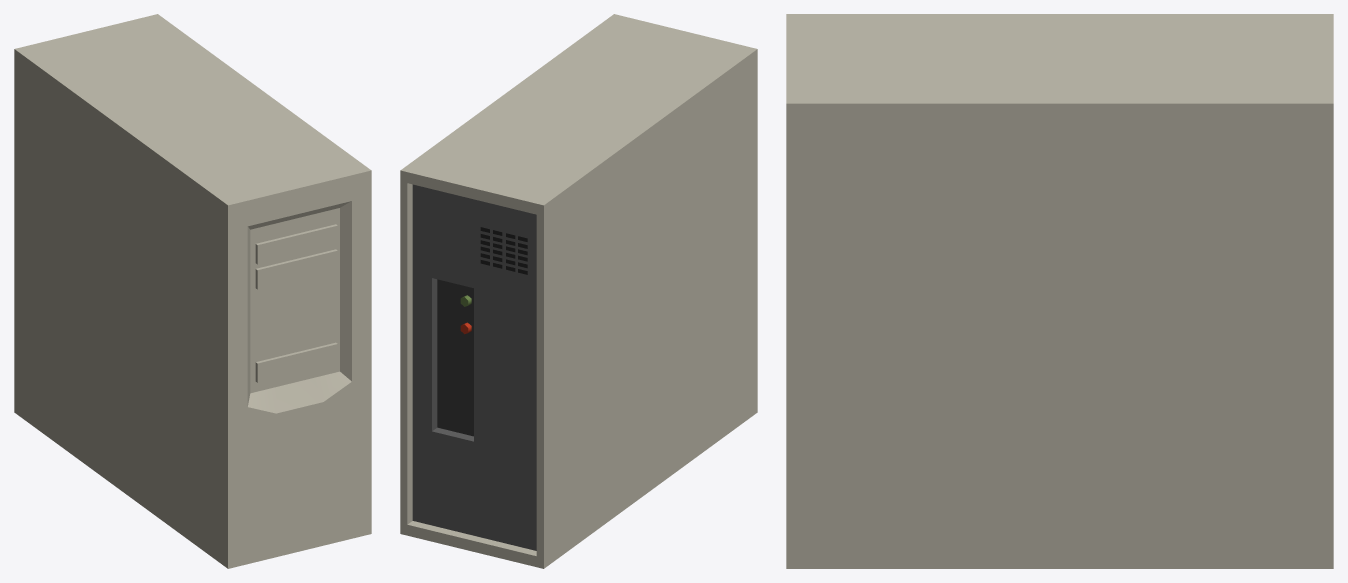
Rendered from ComputerCase_01.fbx.
3 renders of one model, left to right at view 1: azimuth 30°, elevation 25°; view 2: azimuth 150°, elevation 25°; view 3: azimuth 270°, elevation 25°, orthographic. The views are drawn at different scales.
Parts seen in each view (by area): view 1: ComputerCase_01; view 2: ComputerCase_01; view 3: ComputerCase_01.
Part boxes in pixels (<box>): ComputerCase_01: <box>14,14,371,568</box>; ComputerCase_01: <box>400,14,757,568</box>; ComputerCase_01: <box>786,14,1333,568</box>.
Size of the model in its own units: 0.2139 by 0.518 by 0.5521.
